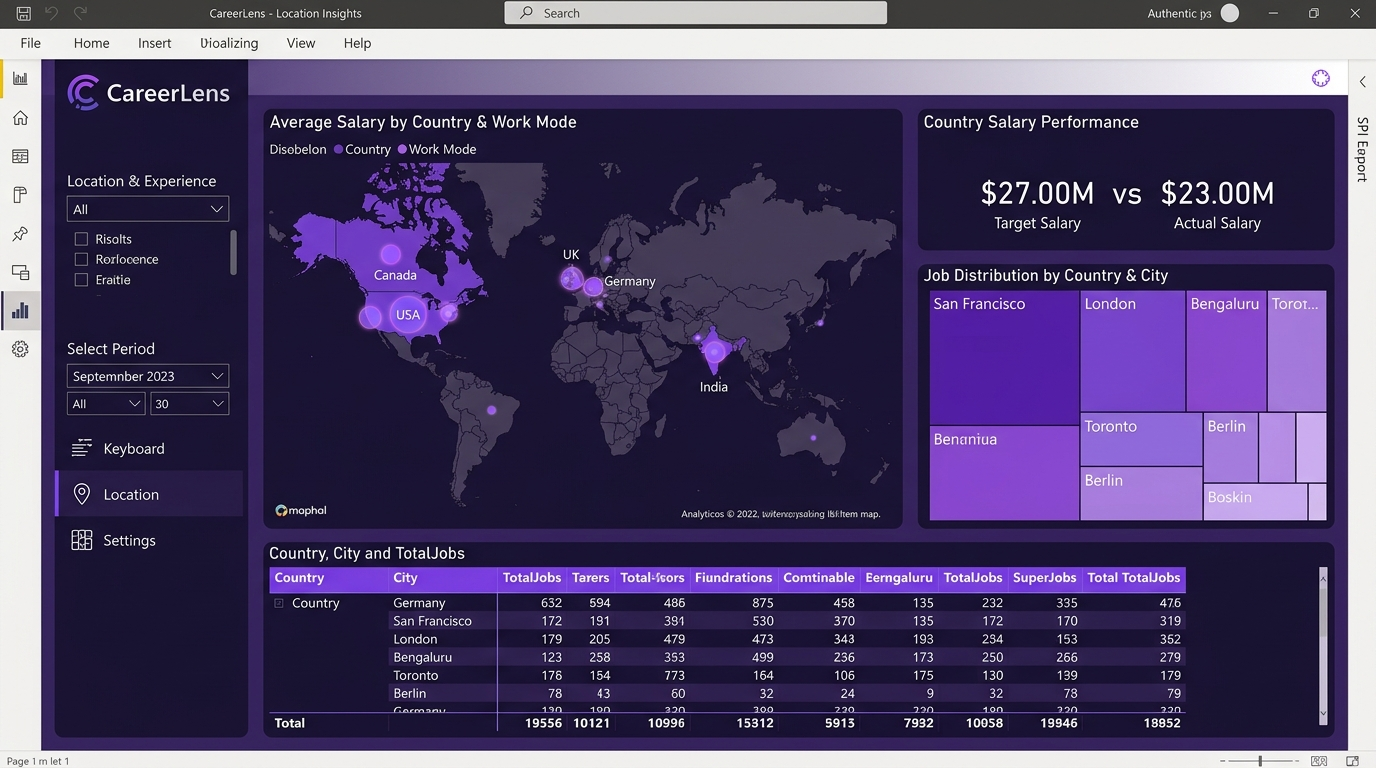

The dashboard page shown, as its layout file describes it:
{"tool":"powerbi","page":{"name":"Location Insights","canvas":[2560,1440],"ordinal":1},"visuals":[{"type":"shape","box":[0,0,407,1439.5],"z":0},{"type":"slicer","title":"Location & Experience","fields":{"Values":["Dim_Locations.Region","Fact_Jobs.Experience_Level","Dim_Locations.Country"]},"box":[14,967.4,376.7,448.8],"z":1000},{"type":"maps","title":"Average Salary by Country & Work Mode","fields":{"country":["Dim_Locations.Country"],"legend":["Fact_Jobs.IsRemote"],"name":["Fact_Jobs.AvgSalaryByCountry"],"hidden":["Fact_Jobs.AvgSalary","Fact_Jobs.TotalJobs"]},"box":[423.3,0,1165.1,995.4],"z":2000},{"type":"kpi","title":"Country Salary Performance","fields":{"Goal":["Fact_Jobs.AvgSalaryByCountry"],"Indicator":["Fact_Jobs.TotalJobs"],"TrendLine":["Dim_Locations.Country"]},"box":[1676.7,0,762.8,304.7],"z":3000},{"type":"treemap","title":"Job Distribution by Country & City","fields":{"Details":["Dim_Locations.City"],"Group":["Dim_Locations.Country"],"Values":["Fact_Jobs.TotalJobs"]},"box":[1625.6,316.3,934.9,679.1],"z":4000},{"type":"pivotTable","title":"Average Salary by Place & Experience Level","fields":{"Columns":["Fact_Jobs.Experience_Level"],"Rows":["Dim_Locations.Region","Dim_Locations.Country","Dim_Locations.City"],"Values":["Fact_Jobs.AvgSalaryByCountry"]},"box":[423.3,1034.9,2137.2,404.7],"z":5000},{"type":"advancedSlicerVisual","title":"Select Period","fields":{"Values":["Dim_Date.YearMonth"]},"box":[14,576.7,376.7,360.5],"z":6000},{"type":"actionButton","box":[25.6,246.5,160.5,127.9],"z":7000},{"type":"actionButton","box":[204.7,246.5,160.5,127.9],"z":8000},{"type":"actionButton","box":[25.6,395.3,162.8,127.9],"z":9000},{"type":"actionButton","box":[207,395.3,158.1,127.9],"z":10000},{"type":"textbox","box":[16.3,51.2,374.4,155.8],"z":11000}]}

Visuals, with their boxes on the page's 2560x1440 design canvas (x1, y1, x2, y2). These are canvas units, not pixel positions in the 1376x768 screenshot, which may show the page scaled, cropped or inside an application window:
shape: region(0, 0, 407, 1440)
"Location & Experience" slicer: region(14, 967, 391, 1416)
"Average Salary by Country & Work Mode" maps: region(423, 0, 1588, 995)
"Country Salary Performance" kpi: region(1677, 0, 2440, 305)
"Job Distribution by Country & City" treemap: region(1626, 316, 2560, 995)
"Average Salary by Place & Experience Level" pivotTable: region(423, 1035, 2560, 1440)
"Select Period" advancedSlicerVisual: region(14, 577, 391, 937)
actionButton: region(26, 246, 186, 374)
actionButton: region(205, 246, 365, 374)
actionButton: region(26, 395, 188, 523)
actionButton: region(207, 395, 365, 523)
textbox: region(16, 51, 391, 207)
